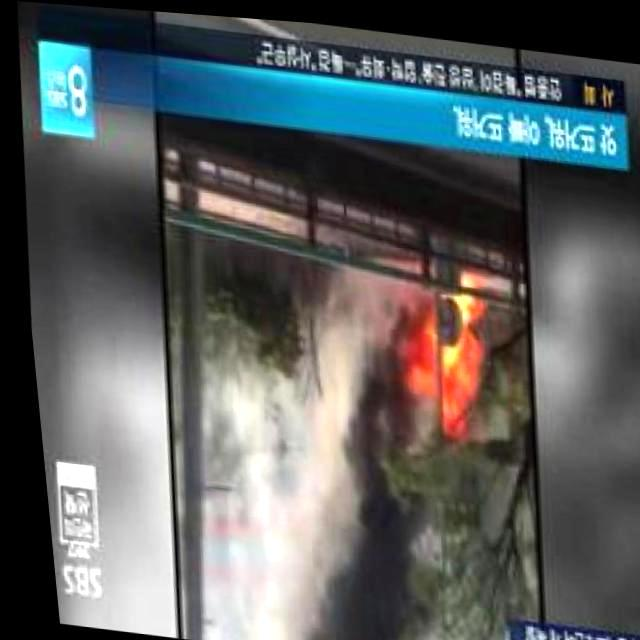fire: (387, 255, 497, 430)
